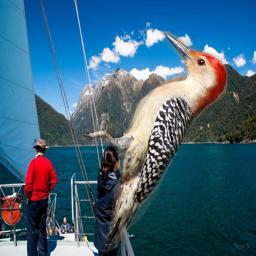Woodpecker: (80, 31, 231, 256)
